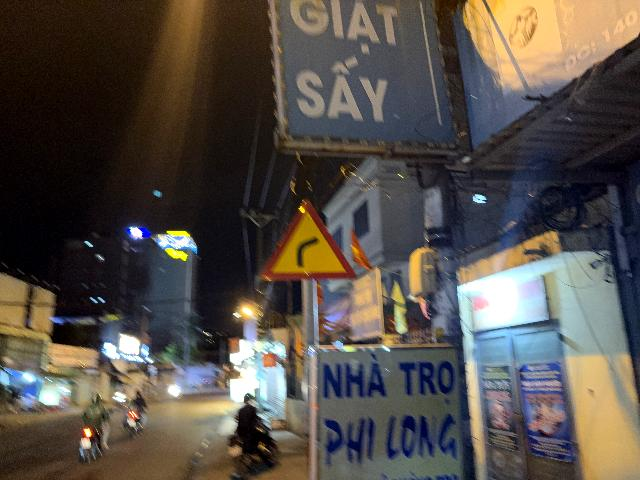cho-ngoat-nguy-hiem-ben-phai: (261, 197, 358, 279)
